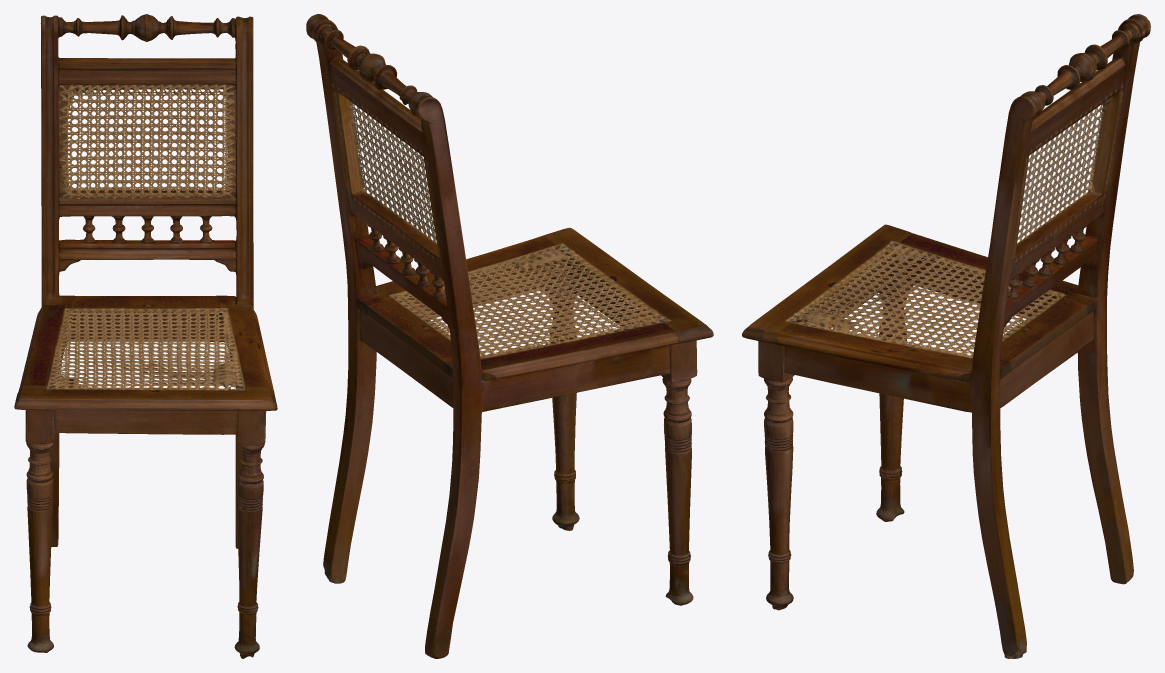
3 renders of one model, left to right at view 1: azimuth 30°, elevation 25°; view 2: azimuth 150°, elevation 25°; view 3: azimuth 270°, elevation 25°, orthographic. The views are drawn at different scales.
Visible parts, largest first — view 1: Stuhlgeflecht_Schreiber_105k_2k; view 2: Stuhlgeflecht_Schreiber_105k_2k; view 3: Stuhlgeflecht_Schreiber_105k_2k.
Boxes of the visible parts, <box> form: Stuhlgeflecht_Schreiber_105k_2k: <box>14,14,277,658</box>; Stuhlgeflecht_Schreiber_105k_2k: <box>306,14,713,658</box>; Stuhlgeflecht_Schreiber_105k_2k: <box>742,14,1150,658</box>.
Bounding box in the file's own units: 0.5811 × 0.9597 × 0.6175.
Materials: 1 (1 with a texture image).
